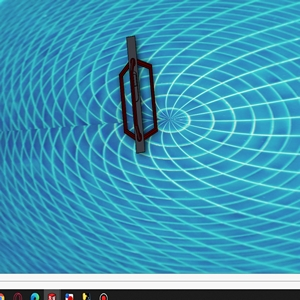submarine: (116, 34, 158, 152)
